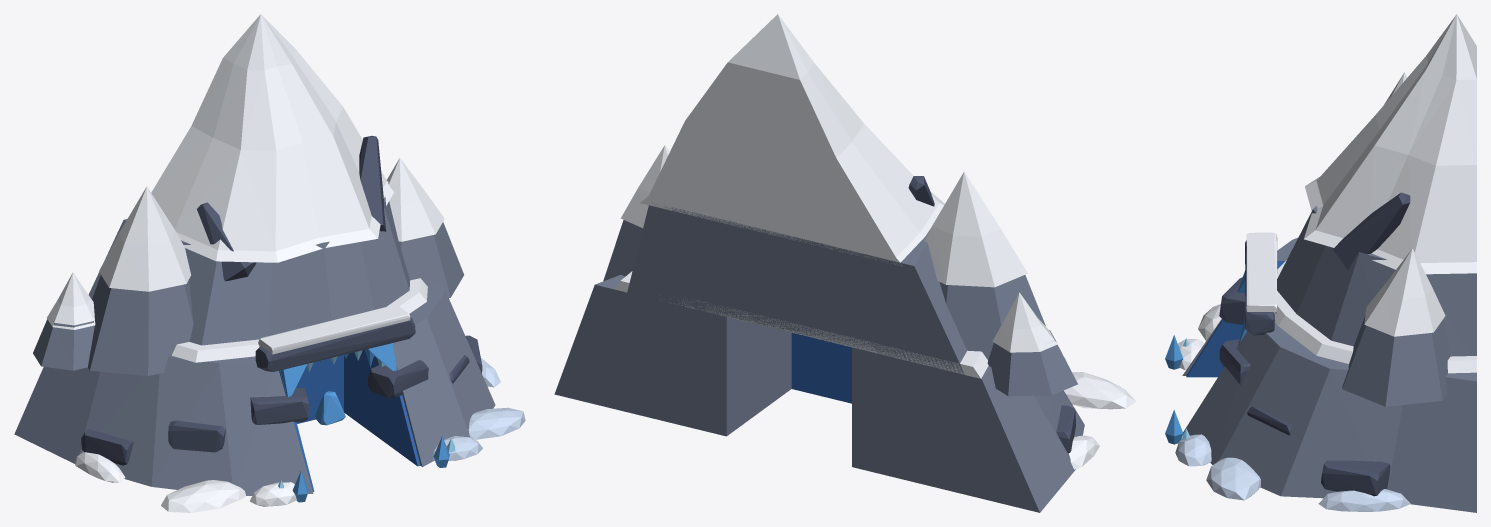
Rendered from Tundra_3_IceCavePeak.fbx.
The picture shows the model from 3 angles, left to right: view 1: azimuth 30°, elevation 25°; view 2: azimuth 150°, elevation 25°; view 3: azimuth 270°, elevation 25°; orthographic projection. The views are drawn at different scales.
Visible parts, largest first — view 1: Tundra_3_IceCavePeak__Tundra_Rock, Tundra_3_IceCavePeak__Tundra_Snow, Tundra_3_IceCavePeak__Tundra_RockDark, Tundra_3_IceCavePeak__Tundra_IceDark, Tundra_3_IceCavePeak__Tundra_IceDeep, Tundra_3_IceCavePeak__Tundra_SnowShade; view 2: Tundra_3_IceCavePeak__Tundra_Rock, Tundra_3_IceCavePeak__Tundra_Snow, Tundra_3_IceCavePeak__Tundra_IceDark, Tundra_3_IceCavePeak__Tundra_RockDark; view 3: Tundra_3_IceCavePeak__Tundra_Rock, Tundra_3_IceCavePeak__Tundra_Snow, Tundra_3_IceCavePeak__Tundra_RockDark, Tundra_3_IceCavePeak__Tundra_SnowShade, Tundra_3_IceCavePeak__Tundra_IceDark, Tundra_3_IceCavePeak__Tundra_IceDeep.
Boxes of the visible parts, x1=… form: Tundra_3_IceCavePeak__Tundra_Rock: x1=14, y1=196, x2=495, y2=495; Tundra_3_IceCavePeak__Tundra_Snow: x1=47, y1=14, x2=444, y2=512; Tundra_3_IceCavePeak__Tundra_RockDark: x1=81, y1=135, x2=482, y2=465; Tundra_3_IceCavePeak__Tundra_IceDark: x1=279, y1=350, x2=420, y2=491; Tundra_3_IceCavePeak__Tundra_IceDeep: x1=280, y1=343, x2=449, y2=502; Tundra_3_IceCavePeak__Tundra_SnowShade: x1=433, y1=358, x2=525, y2=460; Tundra_3_IceCavePeak__Tundra_Rock: x1=554, y1=203, x2=1084, y2=512; Tundra_3_IceCavePeak__Tundra_Snow: x1=614, y1=14, x2=1136, y2=469; Tundra_3_IceCavePeak__Tundra_IceDark: x1=791, y1=333, x2=851, y2=403; Tundra_3_IceCavePeak__Tundra_RockDark: x1=908, y1=176, x2=1075, y2=453; Tundra_3_IceCavePeak__Tundra_Rock: x1=1182, y1=206, x2=1476, y2=512; Tundra_3_IceCavePeak__Tundra_Snow: x1=1178, y1=14, x2=1476, y2=373; Tundra_3_IceCavePeak__Tundra_RockDark: x1=1219, y1=192, x2=1410, y2=496; Tundra_3_IceCavePeak__Tundra_SnowShade: x1=1175, y1=434, x2=1410, y2=511; Tundra_3_IceCavePeak__Tundra_IceDark: x1=1186, y1=261, x2=1285, y2=377; Tundra_3_IceCavePeak__Tundra_IceDeep: x1=1165, y1=270, x2=1246, y2=444.
Bounding box in the file's own units: 133 × 110 × 77.55.
